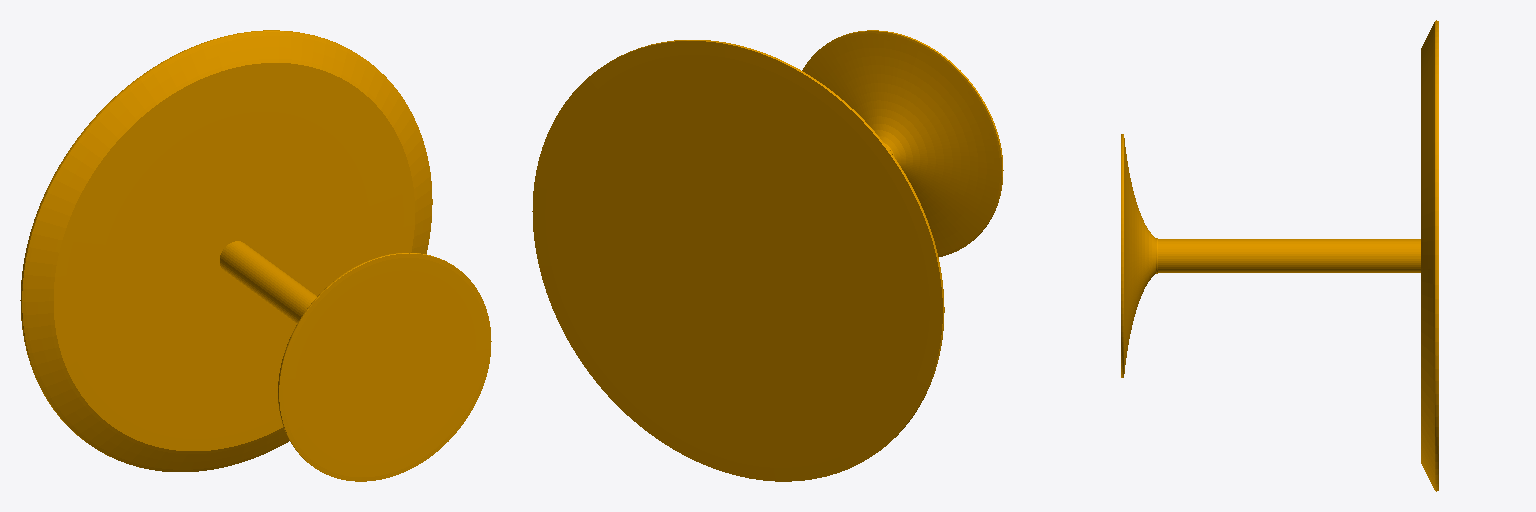
The robot description file, URDF, robot "round_table_1":
<?xml version="1.0" ?>
<robot name="round_table_1">
  <link name="baseLink">
    <visual>
      <origin rpy="0 0 0" xyz="0 0 0"/>
      <geometry>
        <mesh filename="round_table.obj" scale="0.001 0.001 0.001"/>
      </geometry>
    </visual>

    <collision>
      <origin rpy="0 0 0" xyz="0 0 0"/>
      <geometry>
        <mesh filename="round_table.obj" scale="0.001 0.001 0.001"/>
      </geometry>
    </collision>

    <inertial>
      <origin rpy="0 0 0" xyz="0 0 0"/>
      <mass value="0.0"/>
      <inertia ixx="0" ixy="0" ixz="0" iyy="0" iyz="0" izz="0"/>
    </inertial>
  </link>
</robot>

--- What the picture shows (computed from the rendered views, not written in the file) ---
The picture shows the robot from 3 angles, left to right: view 1: azimuth 30°, elevation 25°; view 2: azimuth 150°, elevation 25°; view 3: azimuth 270°, elevation 25°; orthographic projection.
Model round_table_1 with 1 links and 0 joints (none), rooted at baseLink, posed every joint at zero.
Links seen in each view (by area): view 1: baseLink; view 2: baseLink; view 3: baseLink.
Boxes of the visible links, box(x1,y1,x2,y2) form: baseLink: box(20, 30, 491, 481); baseLink: box(532, 30, 1003, 481); baseLink: box(1121, 20, 1438, 491).
Bounding box of the posed robot: 1.1 × 0.74 × 1.1 m (x, y, z).
1 mesh visuals loaded from 1 distinct referenced files (1 OBJ).